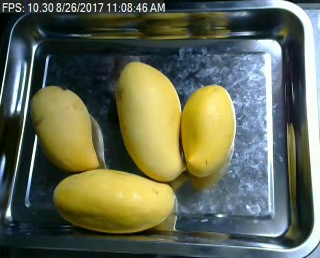Mango: (115, 58, 188, 181), (47, 167, 179, 235), (27, 83, 106, 171), (182, 79, 237, 178)
